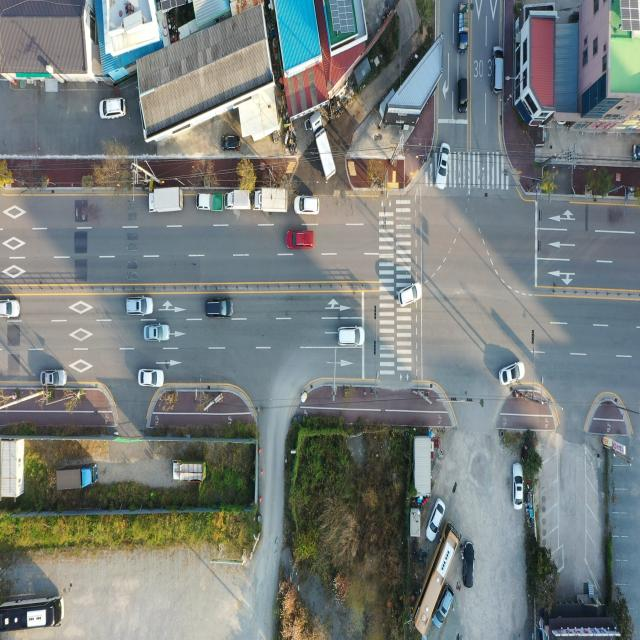car: (429, 583, 455, 632), (426, 496, 446, 542), (434, 144, 452, 191), (459, 540, 476, 589), (491, 45, 506, 94), (286, 230, 314, 251), (397, 282, 421, 306), (100, 98, 126, 120), (502, 362, 526, 384), (296, 195, 321, 216), (206, 300, 232, 320), (338, 326, 364, 346), (514, 463, 525, 510), (126, 296, 152, 315), (42, 370, 68, 388), (139, 368, 163, 387), (221, 133, 243, 153), (146, 324, 170, 342), (0, 300, 21, 320), (458, 77, 467, 110)
large_bus: (413, 519, 461, 637), (0, 591, 66, 634)
medium_truck: (311, 108, 334, 178), (148, 189, 187, 213), (255, 183, 288, 210), (57, 469, 97, 491)
small_truck: (222, 187, 252, 214), (172, 460, 205, 481), (457, 3, 469, 52), (196, 192, 223, 210)
